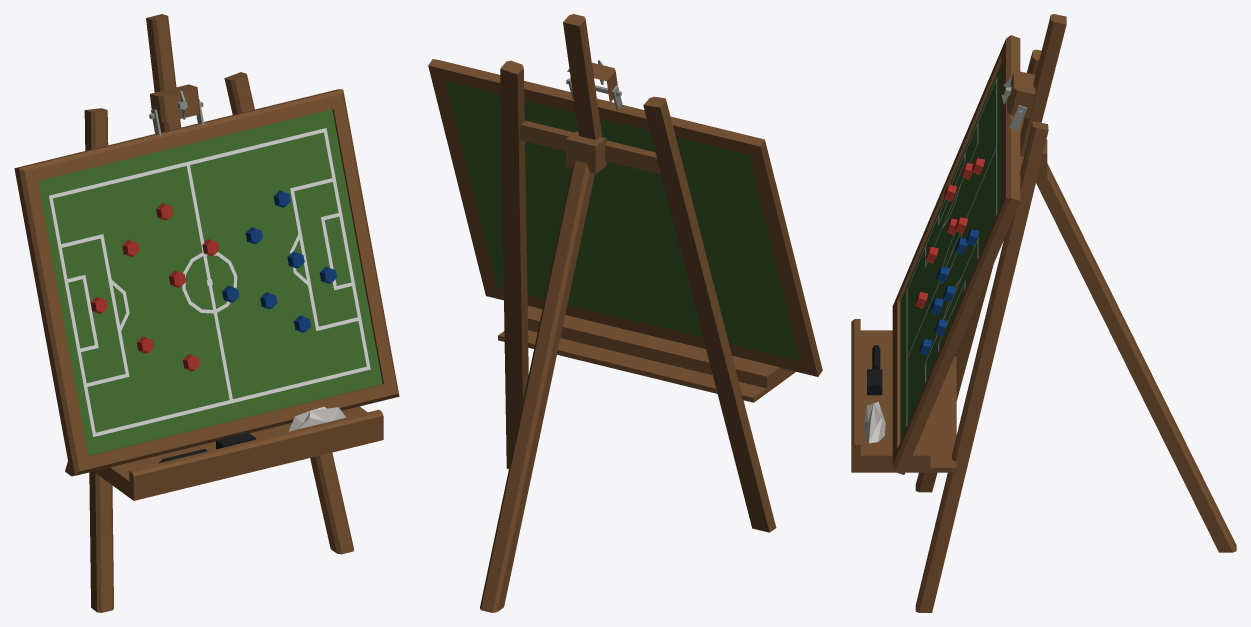
The model's file is tactics-board-21cfd2.glb.
3 views of the same model, side by side, from view 1: azimuth 30°, elevation 25°; view 2: azimuth 150°, elevation 25°; view 3: azimuth 270°, elevation 25° (orthographic). The views are drawn at different scales.
Visible parts, largest first — view 1: board-mesh, stand, rag-mesh; view 2: board-mesh, stand; view 3: stand, board-mesh, rag-mesh.
Part boxes in pixels (box(x1,y1,x2,y2)): board-mesh: box(14, 89, 399, 475); stand: box(65, 14, 383, 612); rag-mesh: box(288, 406, 345, 431); board-mesh: box(428, 59, 822, 376); stand: box(480, 14, 795, 612); stand: box(851, 14, 1236, 612); board-mesh: box(892, 35, 1027, 474); rag-mesh: box(864, 401, 885, 443).
Size of the model in its own units: 1 by 1.52 by 1.
